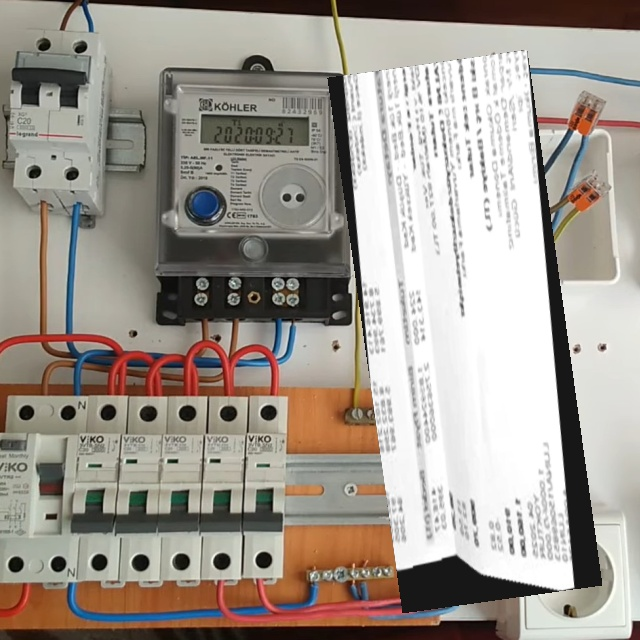electricity-bill: (326, 50, 602, 613)
